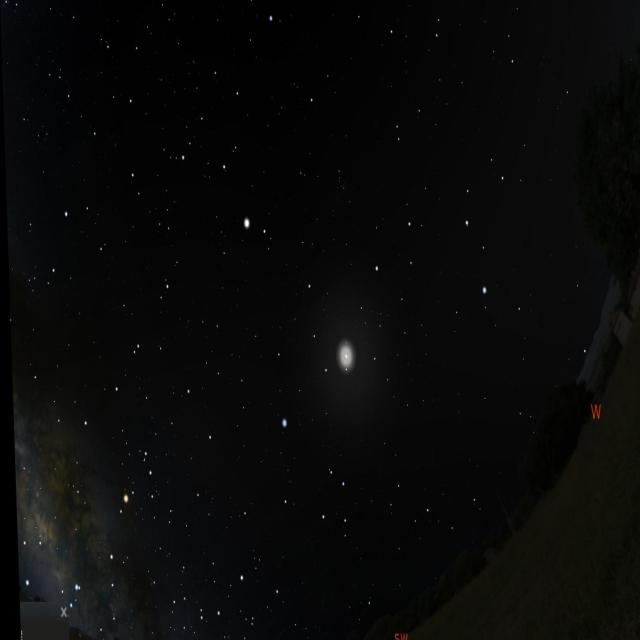bootes: (195, 70, 278, 260)
leo: (362, 140, 524, 318)
lyra: (0, 0, 49, 22)
moon: (319, 318, 377, 406)
scorpius: (62, 452, 176, 638)
